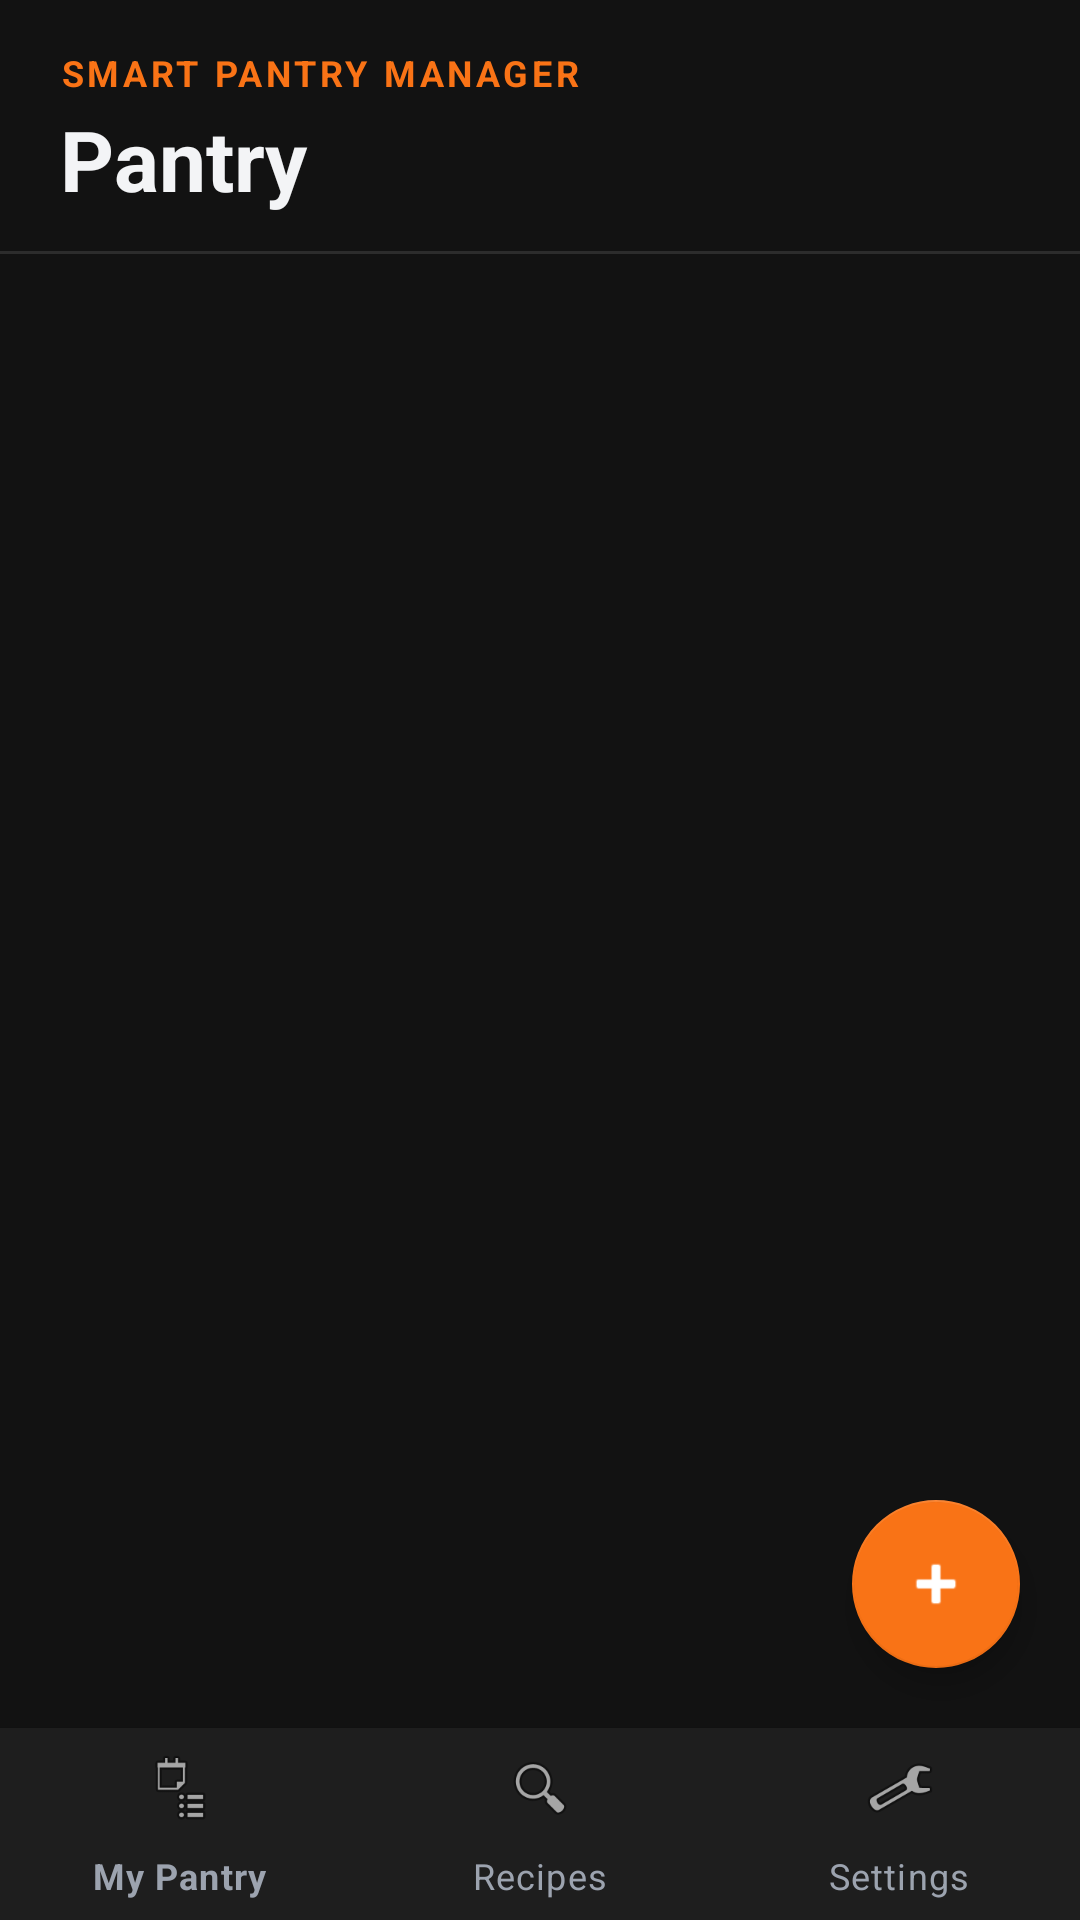

Screen size 1080 x 1920. Icon name, then its box in pixels as rect(x1, y1, x2, y2):
Add Ingredient: rect(852, 1500, 1020, 1668)
